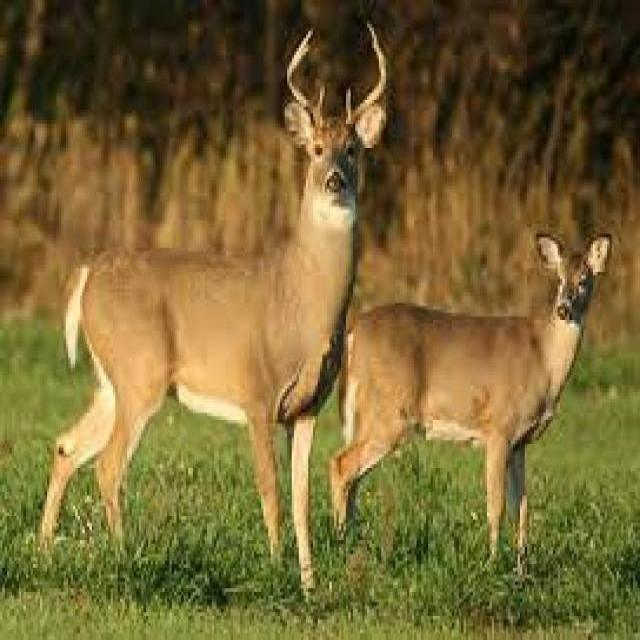deer: (46, 31, 382, 557), (336, 235, 608, 556)
